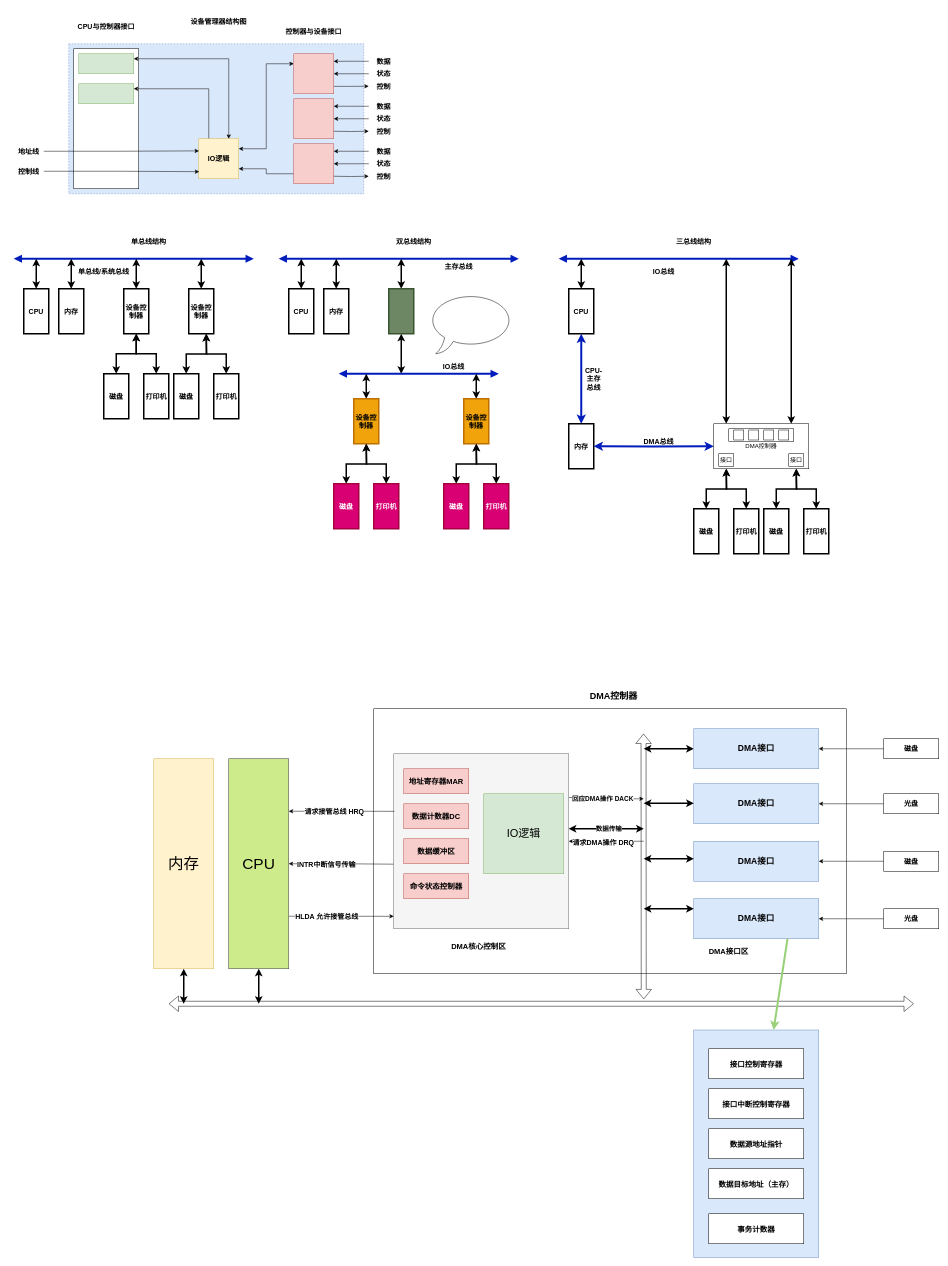
This 948x1266 diagram has some shape labels left out. The centre of each missing label's shape, as x and y in pixels:
"控制/状态 寄存器" belongs at (106,93).
"控制器与设备接口（1）" belongs at (313,73).
"控制器与设备接口（2）" belongs at (313,118).
"控制器与设备接口（3）" belongs at (313,163).
"数据寄存器" belongs at (106,63).
"由此处可以看出，一个通道管理多个IO接口，一个IO接口管理多个物理设备" belongs at (471,323).
"通道" belongs at (401,311).
